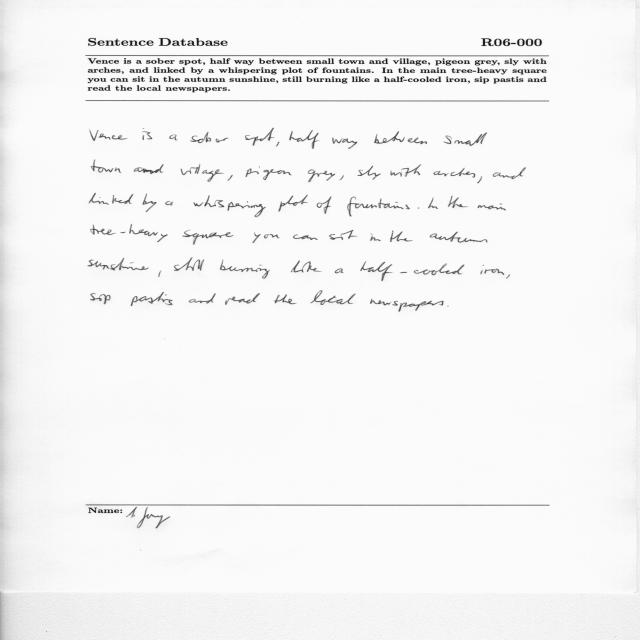word: (360, 261, 465, 281), (193, 196, 266, 218), (91, 224, 168, 242), (347, 197, 410, 217), (220, 260, 270, 279), (180, 164, 224, 182), (182, 230, 234, 245), (88, 258, 148, 271), (374, 131, 427, 144), (246, 166, 292, 180), (310, 291, 356, 305), (430, 232, 488, 243), (444, 132, 487, 146), (131, 292, 173, 306), (289, 130, 319, 149), (89, 193, 134, 205), (245, 128, 274, 146), (278, 195, 308, 212), (399, 301, 444, 312), (433, 168, 475, 178), (225, 293, 260, 305), (190, 132, 228, 143), (90, 130, 127, 141), (390, 164, 421, 177), (493, 168, 526, 180), (91, 160, 121, 173), (174, 258, 204, 271), (291, 261, 321, 273), (308, 170, 335, 183), (358, 166, 381, 180), (252, 232, 280, 243), (333, 137, 358, 149), (134, 164, 164, 174), (189, 293, 216, 304), (329, 230, 357, 240), (317, 196, 332, 214), (143, 193, 157, 212), (390, 231, 413, 242), (448, 196, 468, 208), (481, 265, 505, 275), (91, 293, 111, 304), (275, 295, 297, 305), (478, 204, 506, 211), (370, 299, 398, 305), (293, 234, 318, 240), (143, 128, 153, 140), (428, 197, 438, 209), (370, 234, 380, 242), (169, 135, 178, 141), (335, 269, 344, 274), (477, 177, 482, 184), (165, 201, 173, 205), (228, 175, 233, 181), (158, 270, 162, 277), (339, 176, 344, 181), (506, 275, 510, 279), (276, 142, 279, 146), (418, 208, 420, 209)
